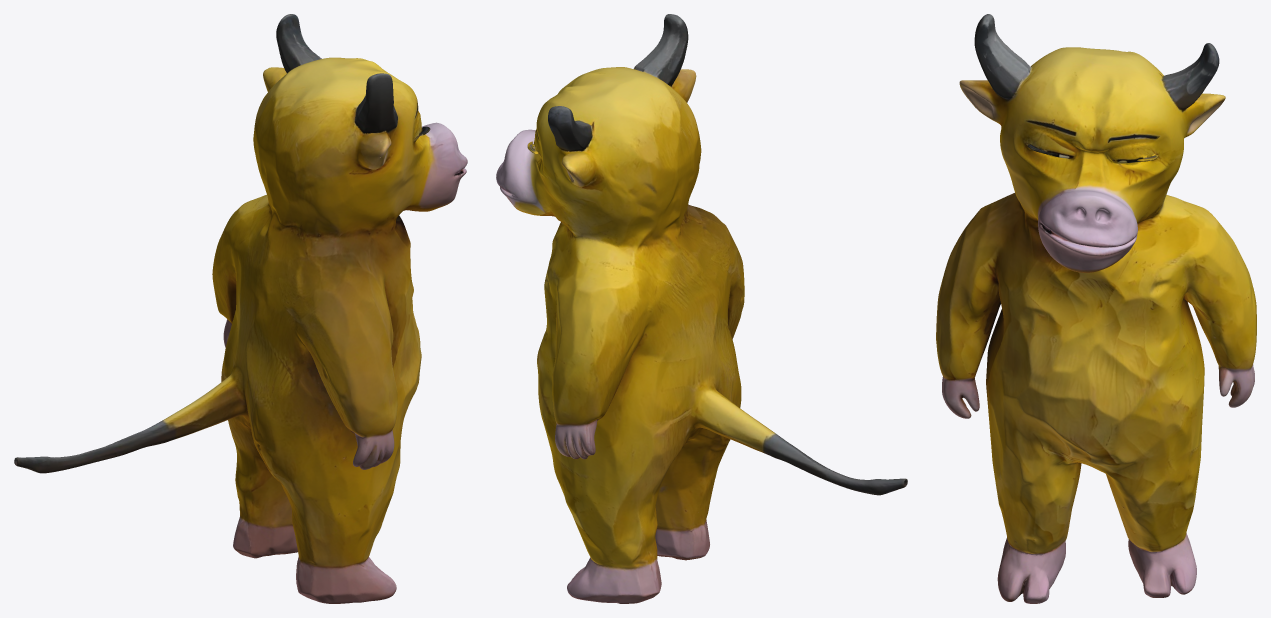
Rendered from tripo_convert_bdf4a6cd-5d35-40f3-b9b1-91a815a7db63.glb.
3 views of the same model, side by side, from view 1: azimuth 30°, elevation 25°; view 2: azimuth 150°, elevation 25°; view 3: azimuth 270°, elevation 25° (orthographic). The views are drawn at different scales.
Visible parts, largest first — view 1: tripo_node_bdf4a6cd-5d35-40f3-b9b1-91a815a7db63; view 2: tripo_node_bdf4a6cd-5d35-40f3-b9b1-91a815a7db63; view 3: tripo_node_bdf4a6cd-5d35-40f3-b9b1-91a815a7db63.
Boxes of the visible parts, x1,y1,x2,y2 form: tripo_node_bdf4a6cd-5d35-40f3-b9b1-91a815a7db63: [14, 14, 467, 603]; tripo_node_bdf4a6cd-5d35-40f3-b9b1-91a815a7db63: [496, 14, 907, 603]; tripo_node_bdf4a6cd-5d35-40f3-b9b1-91a815a7db63: [936, 14, 1256, 603].
Bounding box in the file's own units: 0.8405 × 1 × 0.5057.
1 material, 1 textured.
